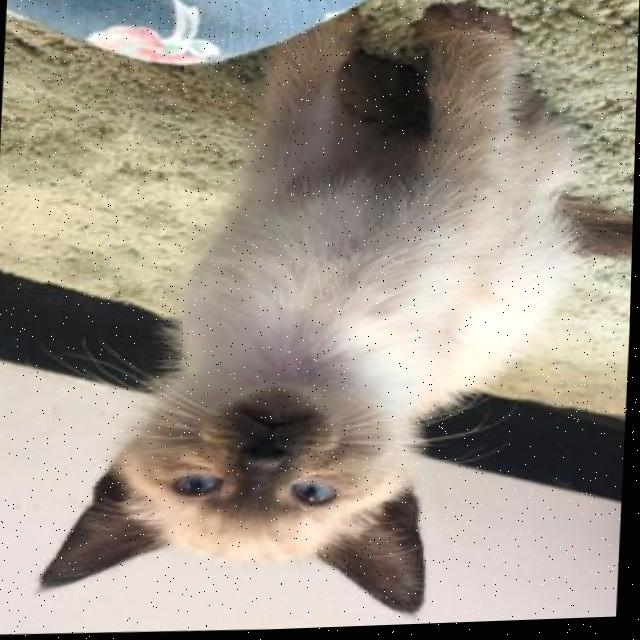Siamese: (34, 0, 640, 639)
